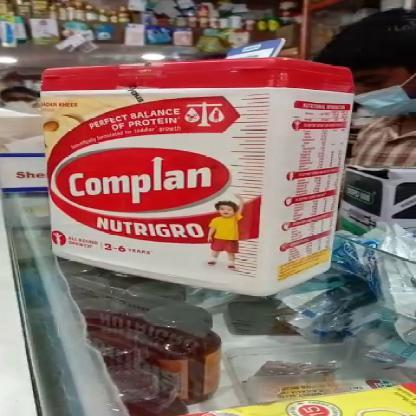Complan Nutrigro Badam Kheer: (46, 66, 340, 278)
